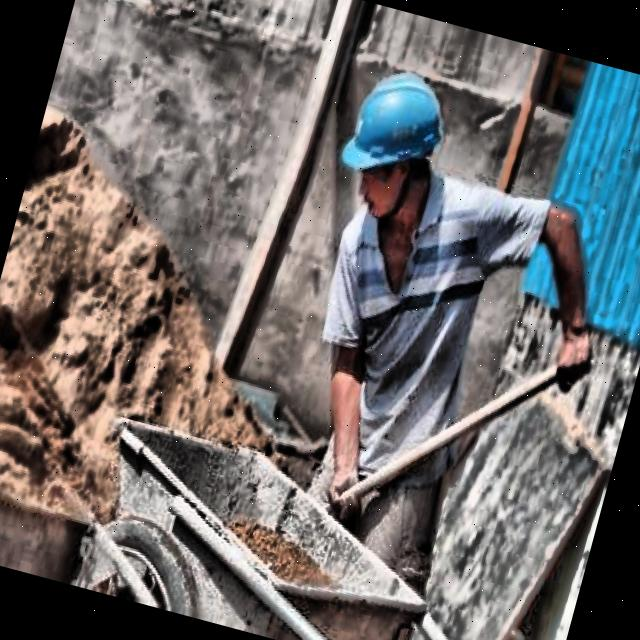helmet: (315, 44, 467, 246)
